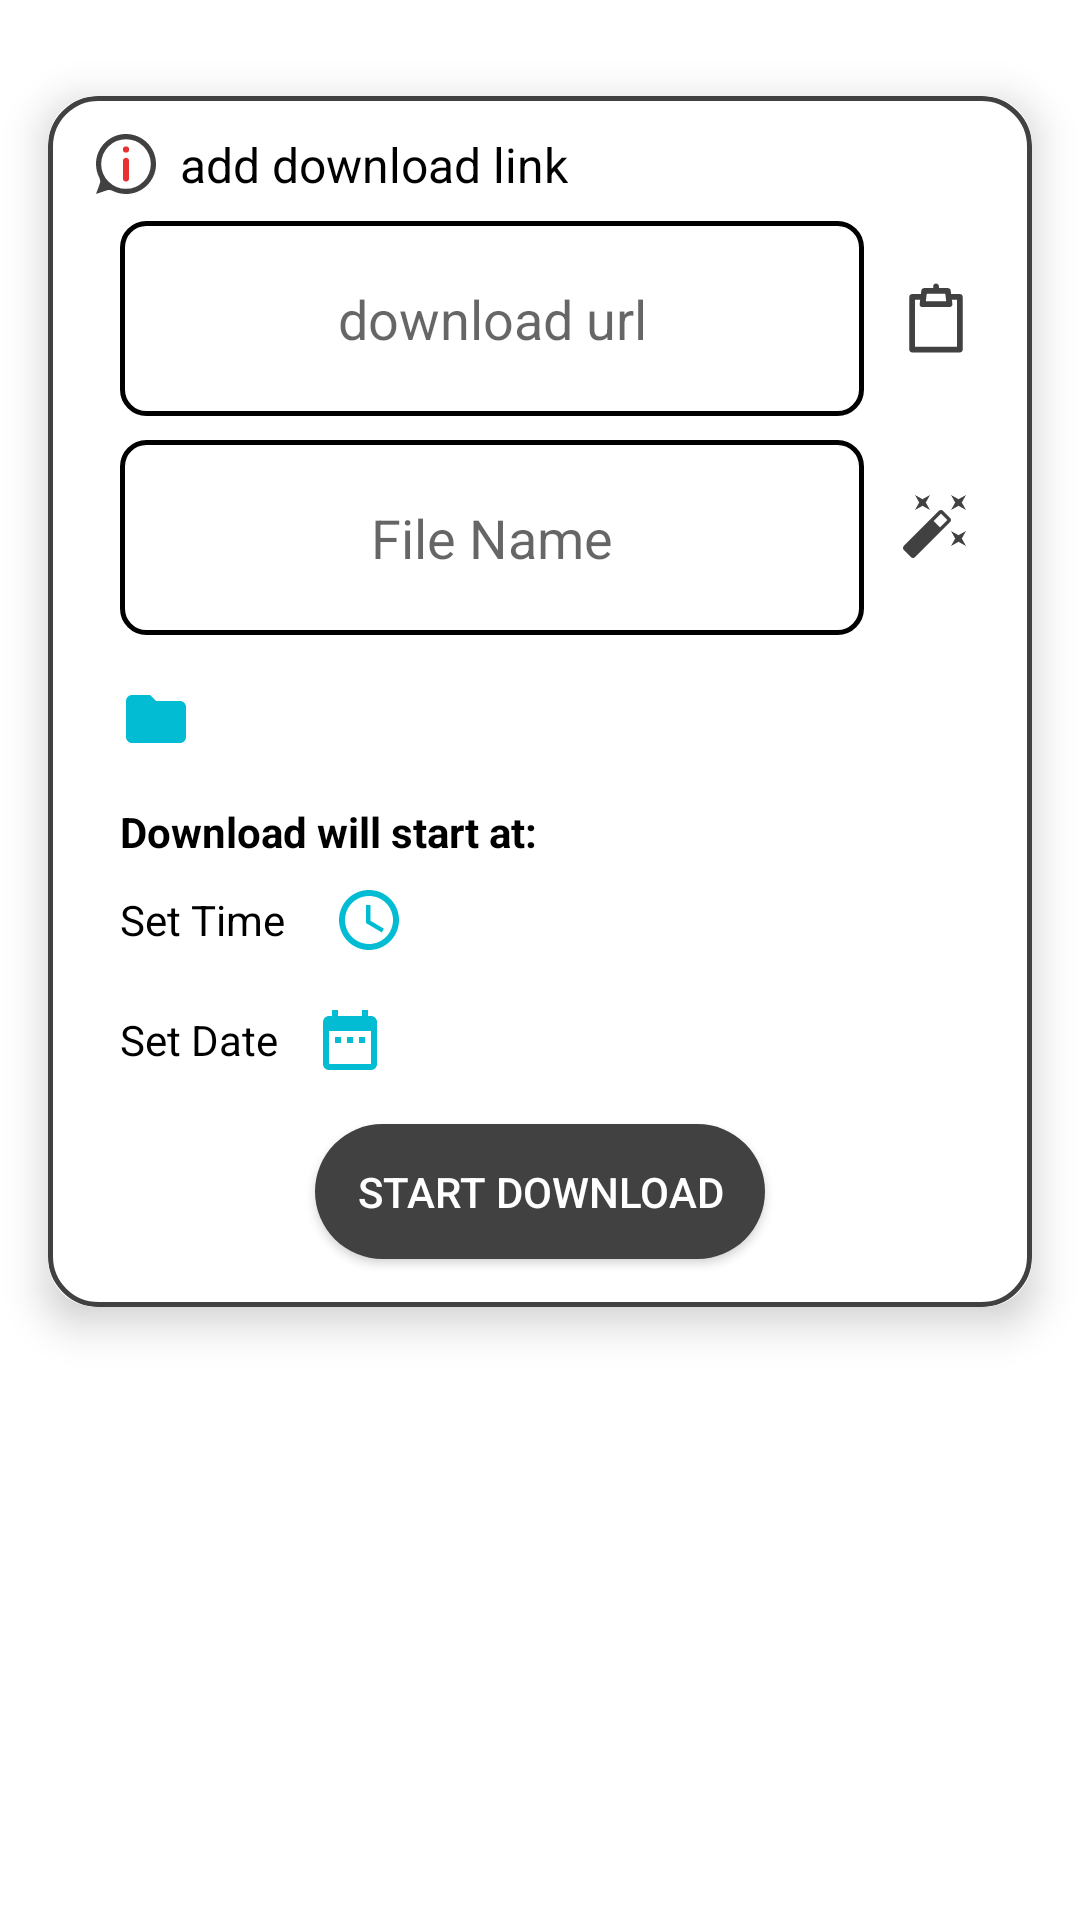

Screen size 1080 x 1920. Icon name, then its box in pixels as (x1, y1, x2, y2):
auto fix high: (903, 495, 966, 558)
clipboard: (909, 283, 963, 353)
